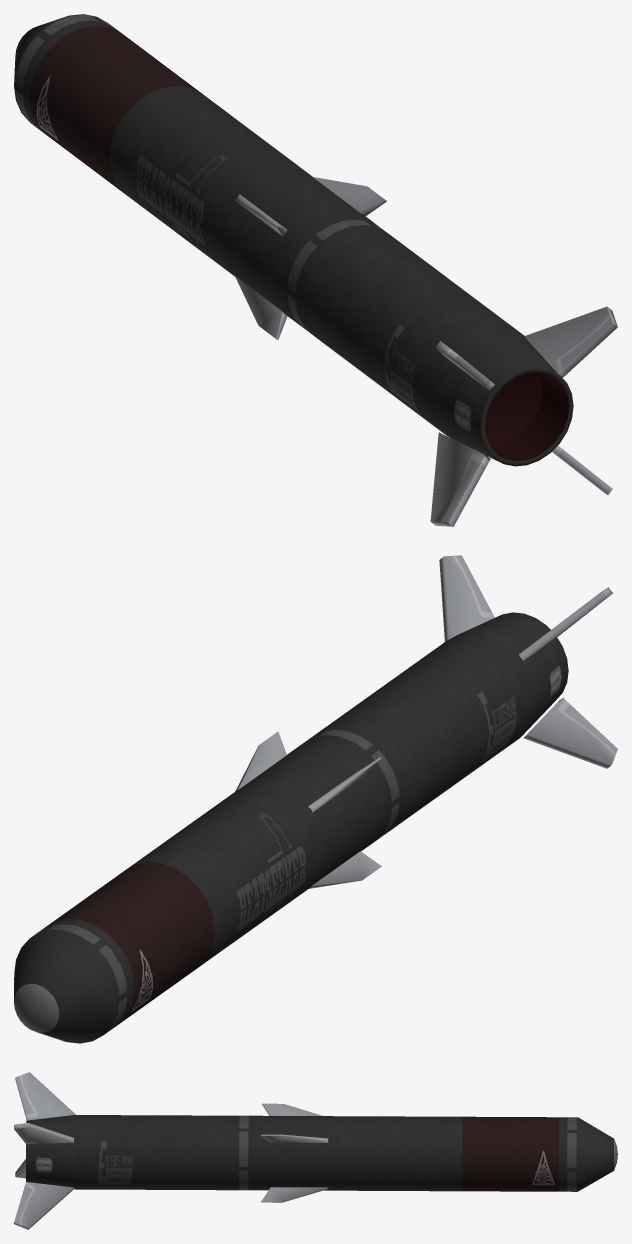
3 renders of one model, top to bottom at view 1: azimuth 30°, elevation 25°; view 2: azimuth 150°, elevation 25°; view 3: azimuth 270°, elevation 25°, orthographic. The views are drawn at different scales.
Parts seen in each view (by area): view 1: Missile; view 2: Missile; view 3: Missile.
Boxes of the visible parts, <box> form: Missile: <box>14,14,617,526</box>; Missile: <box>14,555,617,1043</box>; Missile: <box>14,1072,617,1229</box>.
Bounding box in the file's own units: 0.2671 × 0.2671 × 1.31.
1 material, 1 textured.
